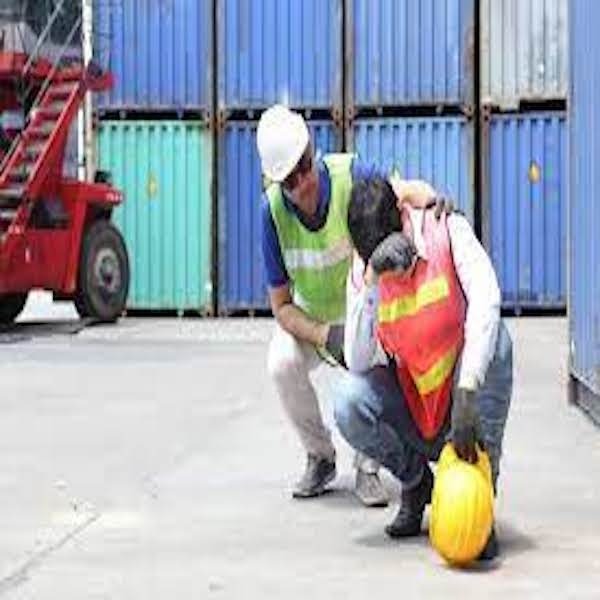helmet: (432, 439, 501, 556), (257, 108, 314, 183)
vest: (377, 212, 460, 397), (287, 159, 357, 350)
